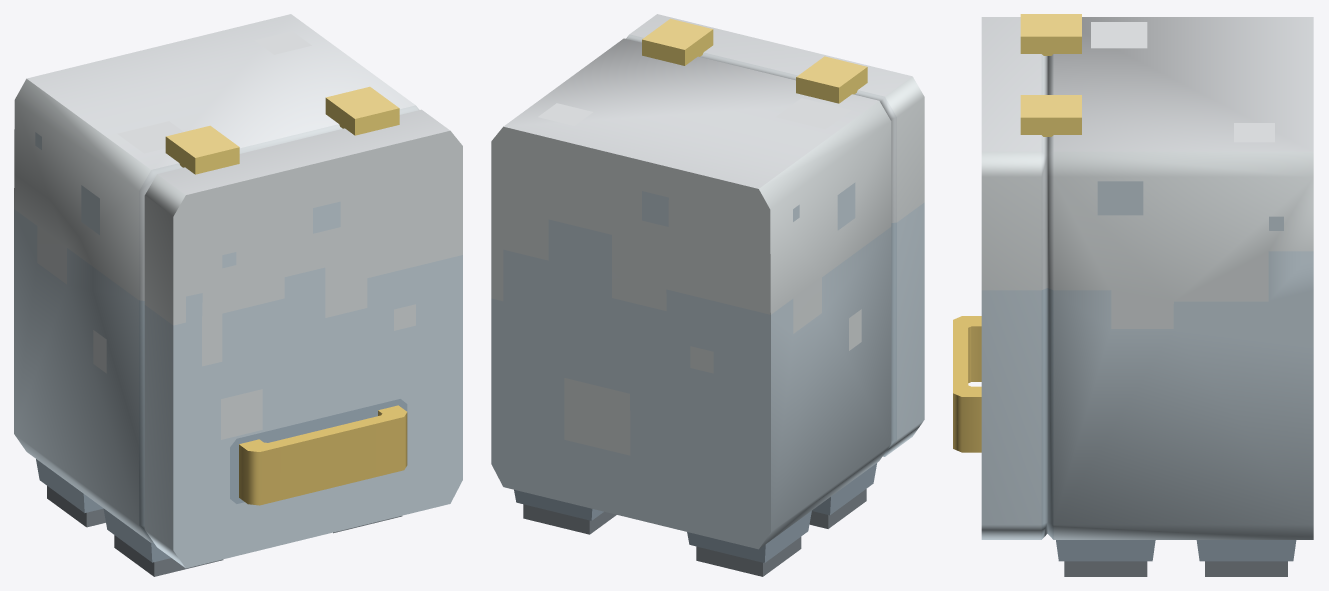
File: pvpd_ChillyIcemaker_03.obj
The picture shows the model from 3 angles, left to right: view 1: azimuth 30°, elevation 25°; view 2: azimuth 150°, elevation 25°; view 3: azimuth 270°, elevation 25°; orthographic projection. The views are drawn at different scales.
Parts seen in each view (by area): view 1: pvpd_ChillyIcemaker_03_Door, pvpd_ChillyIcemaker_03; view 2: pvpd_ChillyIcemaker_03, pvpd_ChillyIcemaker_03_Door; view 3: pvpd_ChillyIcemaker_03, pvpd_ChillyIcemaker_03_Door.
Part boxes in pixels (left/top/right/bottom): pvpd_ChillyIcemaker_03_Door: left=144, top=109, right=462, bottom=568; pvpd_ChillyIcemaker_03: left=14, top=14, right=419, bottom=576; pvpd_ChillyIcemaker_03: left=491, top=18, right=891, bottom=576; pvpd_ChillyIcemaker_03_Door: left=626, top=14, right=924, bottom=456; pvpd_ChillyIcemaker_03: left=1020, top=14, right=1313, bottom=576; pvpd_ChillyIcemaker_03_Door: left=953, top=17, right=1047, bottom=539.
Size of the model in its own units: 3.01 by 4.24 by 3.11.
Materials: 1 (1 with a texture image).
